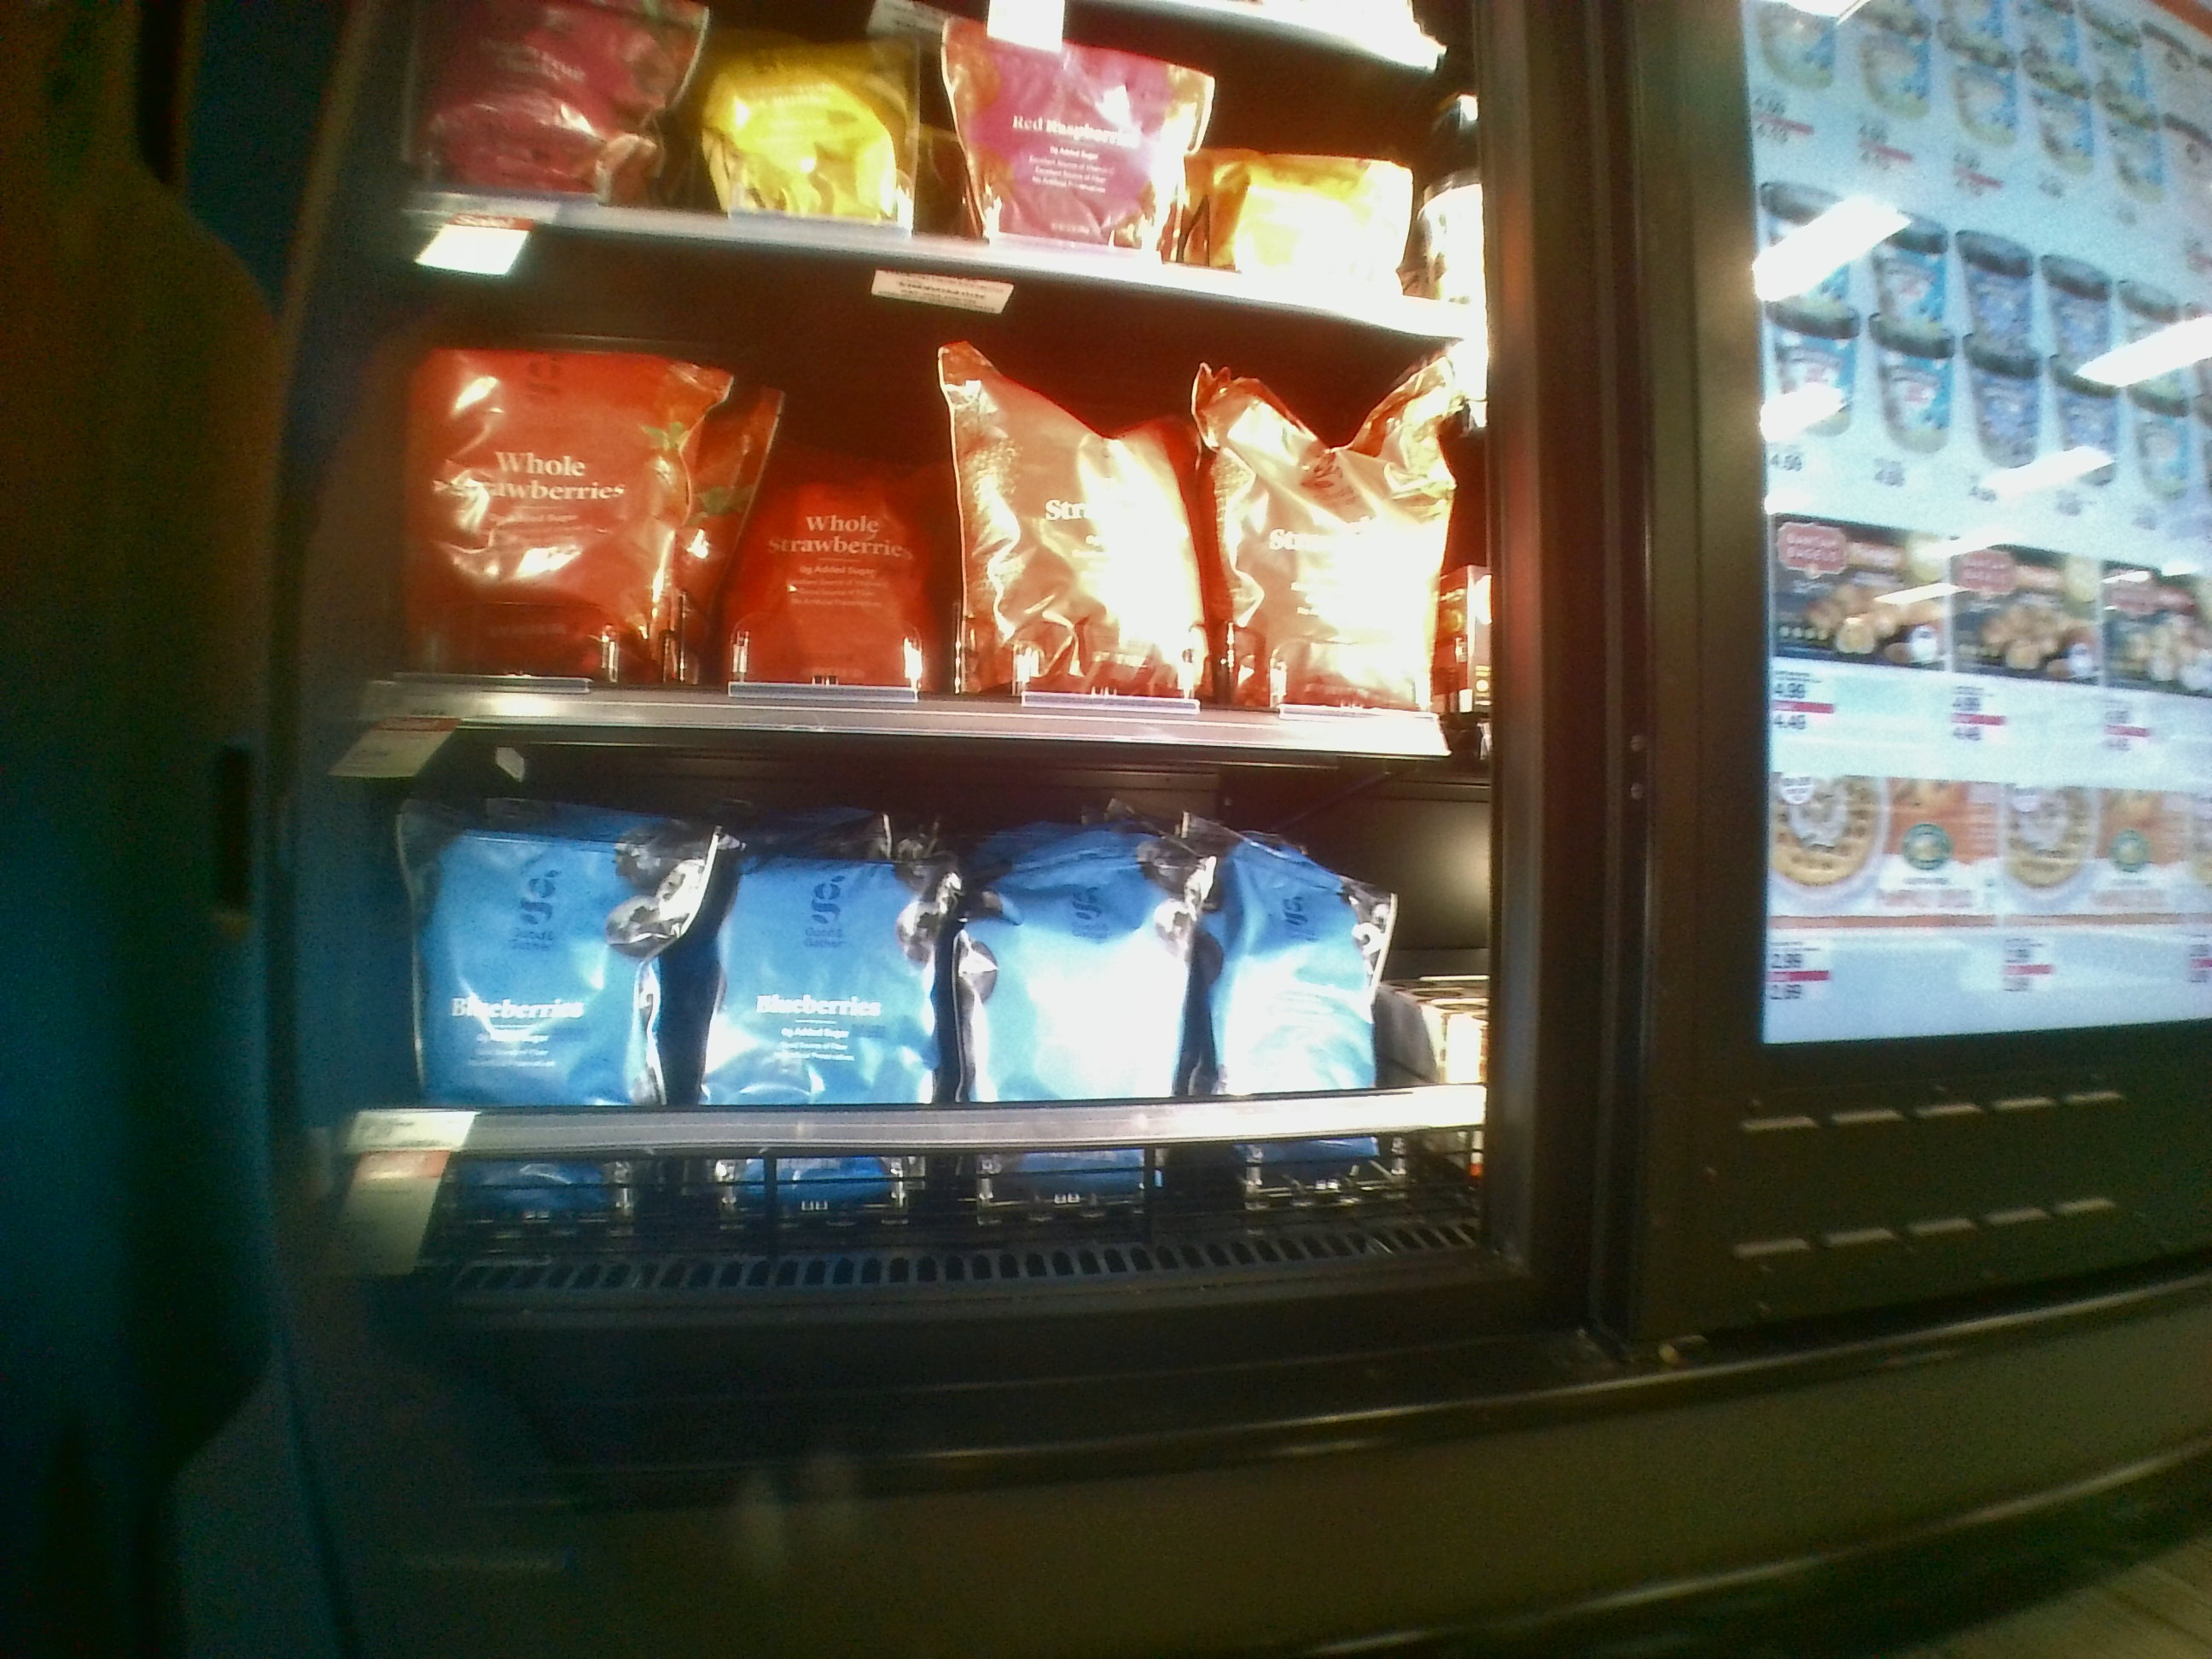shelf: (354, 737, 1487, 1270), (385, 288, 1487, 737)
